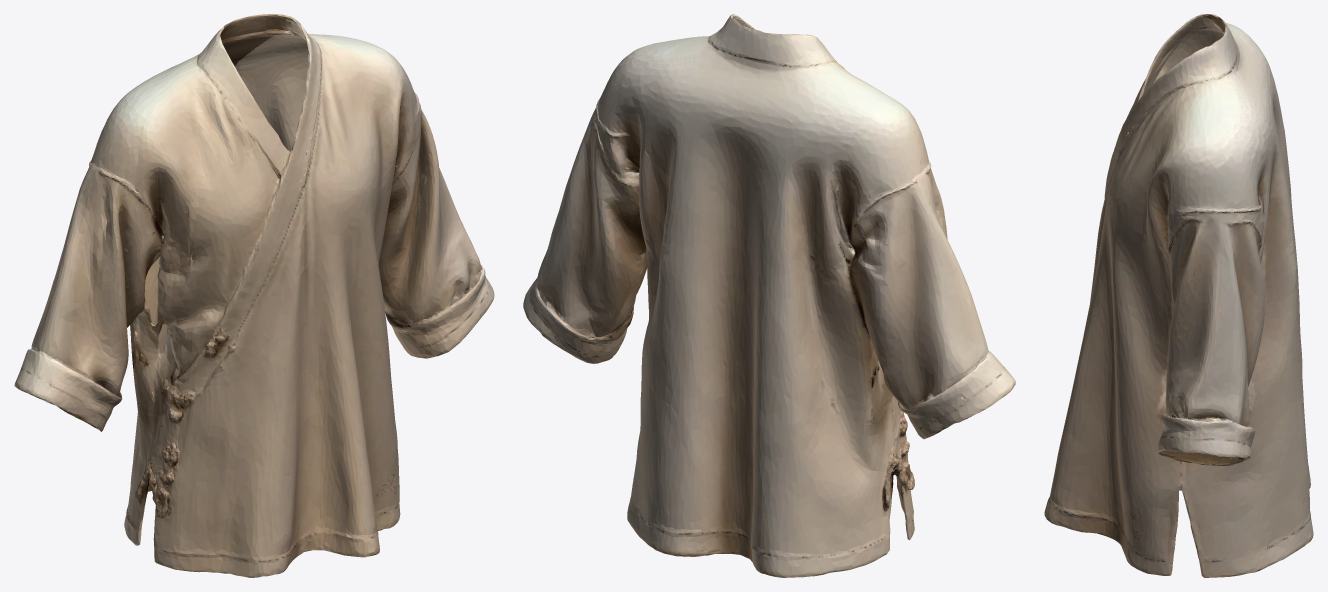
The model's file is kurti.glb.
The picture shows the model from 3 angles, left to right: view 1: azimuth 30°, elevation 25°; view 2: azimuth 150°, elevation 25°; view 3: azimuth 270°, elevation 25°; orthographic projection. The views are drawn at different scales.
Visible parts, largest first — view 1: world; view 2: world; view 3: world.
Part boxes in pixels (x1=…): world: x1=14, y1=14, x2=494, y2=577; world: x1=523, y1=14, x2=1015, y2=577; world: x1=1044, y1=14, x2=1313, y2=577.
Size of the model in its own units: 1.96 by 1.99 by 0.9886.
Materials: 1 (1 with a texture image).
